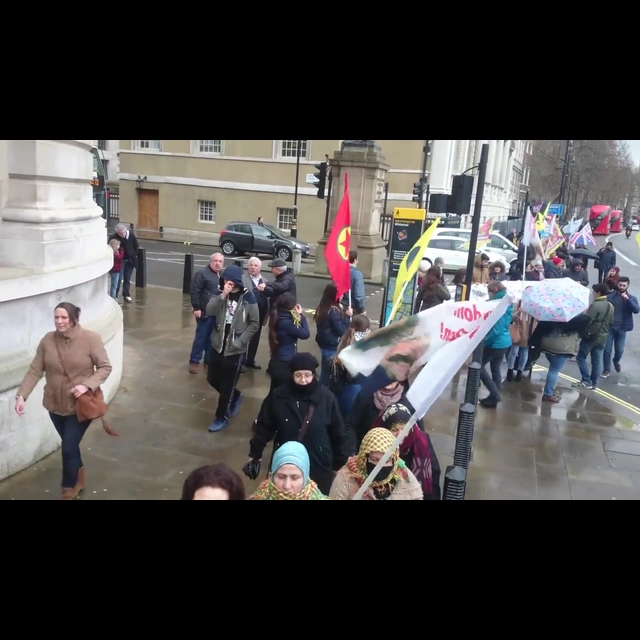PKK: (322, 171, 353, 297)
